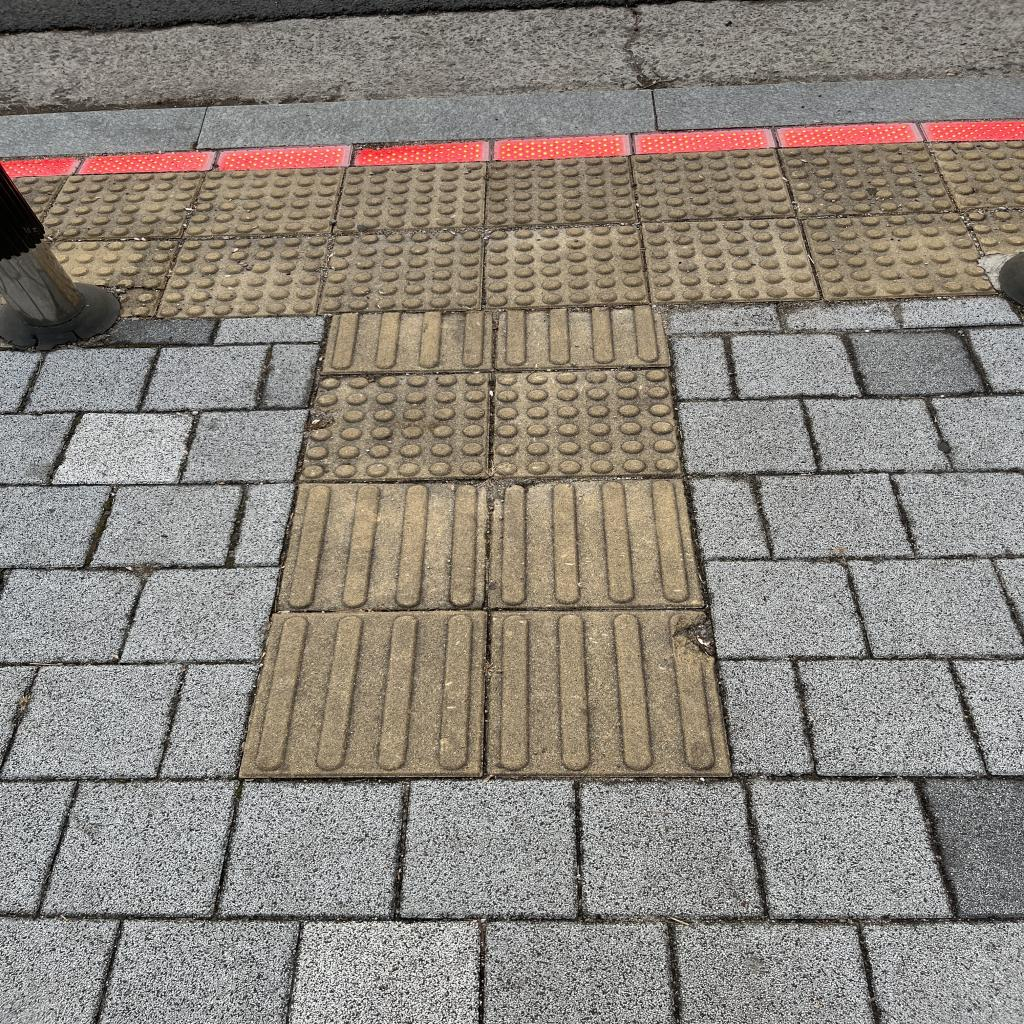Stop block broken: (297, 374, 491, 480)
Stop block normal: (492, 369, 681, 476), (643, 218, 818, 303), (318, 231, 485, 313), (484, 224, 647, 308), (156, 238, 331, 316), (632, 149, 796, 221), (333, 162, 488, 231), (485, 157, 637, 226)
Straight block broken: (488, 609, 732, 776)
Straight block normal: (239, 611, 486, 775), (489, 479, 702, 606), (279, 481, 489, 609)
